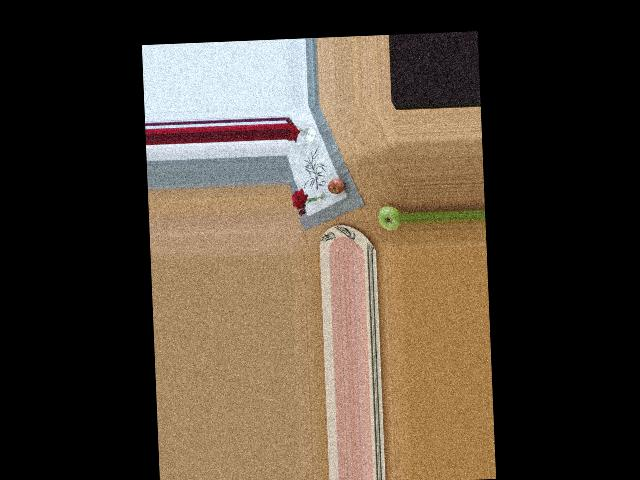apple: (376, 204, 402, 232)
